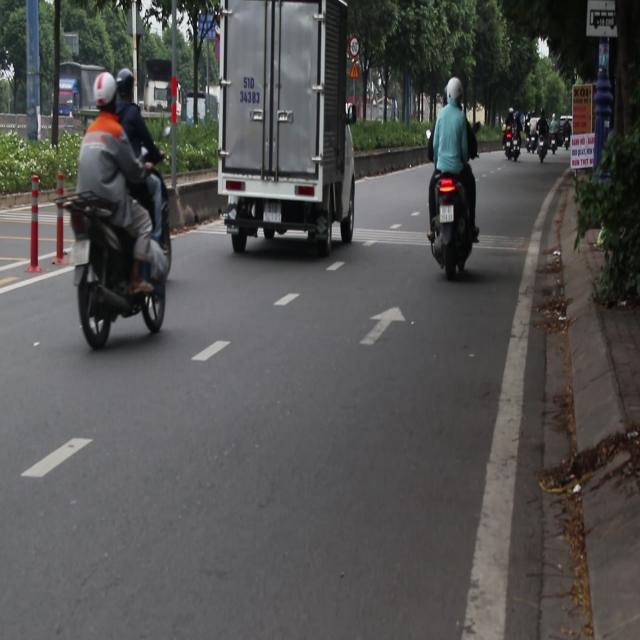motorbike: (61, 189, 170, 350), (428, 173, 476, 278), (537, 130, 557, 162), (504, 129, 522, 162)
truck: (214, 0, 360, 257), (55, 61, 115, 130)
